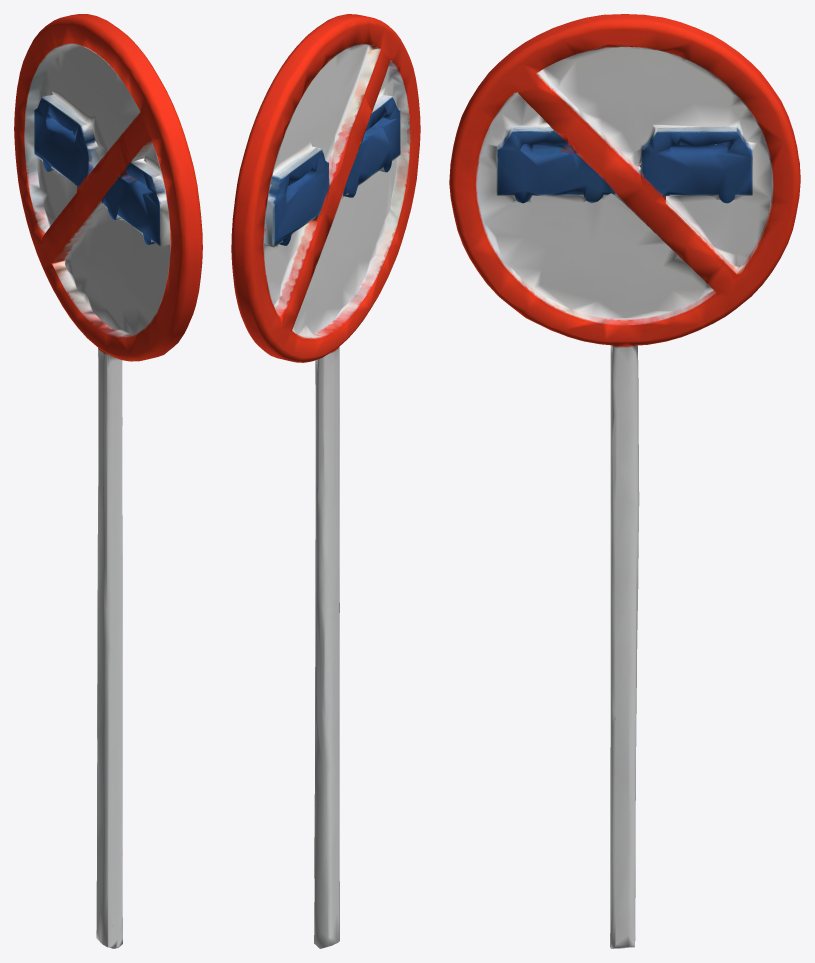
Rendered from noAdelantar.fbx.
3 views of the same model, side by side, from view 1: azimuth 30°, elevation 25°; view 2: azimuth 150°, elevation 25°; view 3: azimuth 270°, elevation 25° (orthographic).
Visible parts, largest first — view 1: tripo_node_a9f9fb9c; view 2: tripo_node_a9f9fb9c; view 3: tripo_node_a9f9fb9c.
Part boxes in pixels (x1,y1,x2,y2): tripo_node_a9f9fb9c: (14, 14, 202, 948); tripo_node_a9f9fb9c: (231, 14, 420, 948); tripo_node_a9f9fb9c: (449, 14, 800, 948).
Size of the model in its own units: 0.0274 by 1 by 0.342.
Materials: 1 (1 with a texture image).
